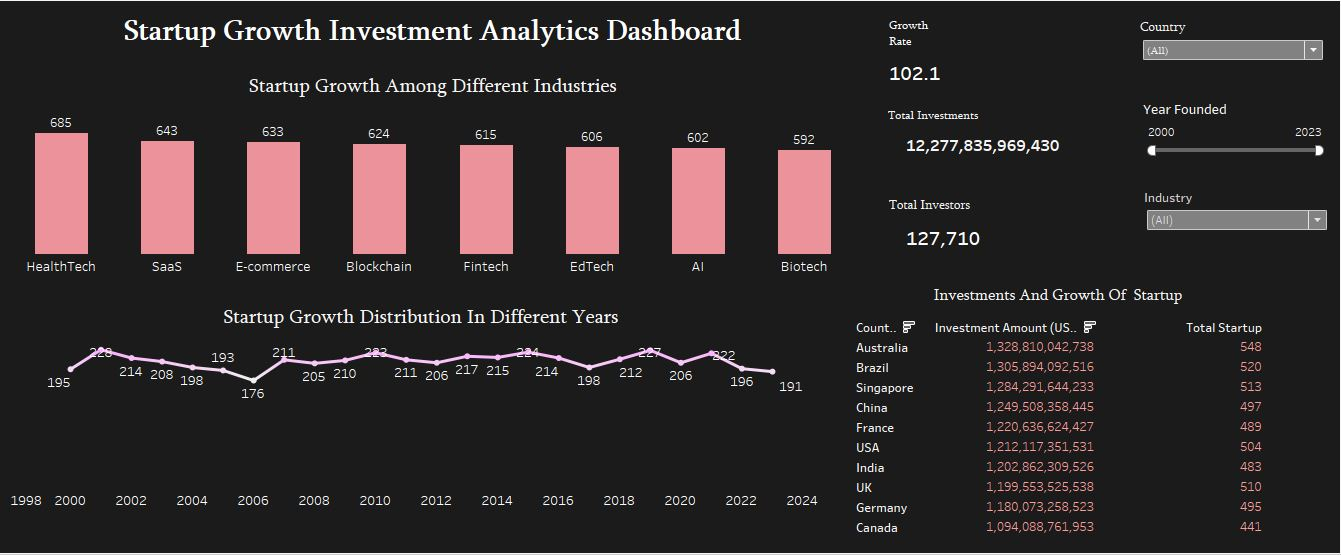

Layout of this report page (visuals, bound fields, positions):
{"tool":"tableau","page":{"name":"Startup Analytics","canvas":[1000,1000],"units":"permille","ordinal":0},"visuals":[{"type":"text","box":[8.7,16.3,627.7,74.3]},{"type":"worksheet","title":"Growth Rate","mark":"Automatic","box":[660.6,21.7,160.2,144.9]},{"type":"filter","title":"Startup-Count","param":"[federated.1gbv70c0r2qat5101hncx04wfn46].[none:Country:nk]","box":[851.1,30.8,138.5,108.7]},{"type":"worksheet","title":"Startup-Indus","mark":"Automatic","rows":["Startup Name"],"cols":["Industry"],"box":[6.1,121.4,634.6,376.8]},{"type":"filter","title":"StartUp Dis","param":"[federated.1gbv70c0r2qat5101hncx04wfn46].[none:Year Founded:qk]","box":[853,179.3,138.1,112.3]},{"type":"worksheet","title":"Investments","mark":"Automatic","box":[659.7,184.8,171.4,139.5]},{"type":"filter","title":"Startup-Indus","param":"[federated.1gbv70c0r2qat5101hncx04wfn46].[none:Industry:nk]","box":[853.7,340.6,138.8,105.1]},{"type":"worksheet","title":"Investors","mark":"Automatic","box":[660.5,346,170.2,143.1]},{"type":"worksheet","title":"Startup-Count","mark":"Automatic","rows":["Country"],"box":[634.3,505.4,360.4,467.4]},{"type":"worksheet","title":"StartUp Dis","mark":"Line","rows":["startup!growth!investment!data_7BC2FEFB78D84BEA810149AA79FB5"],"cols":["Year Founded"],"box":[6.7,539.9,614.9,438.4]}]}

Visuals, with their boxes on the dashboard's canvas, which has no fixed pixel size, in thousandths of its width and height (x1, y1, x2, y2). These are canvas units, not pixel positions in the 1341x555 screenshot, which may show the page scaled, cropped or inside an application window:
text: (left=9, top=16, right=636, bottom=91)
"Growth Rate" worksheet: (left=661, top=22, right=821, bottom=167)
"Startup-Count" filter: (left=851, top=31, right=990, bottom=140)
"Startup-Indus" worksheet: (left=6, top=121, right=641, bottom=498)
"StartUp Dis" filter: (left=853, top=179, right=991, bottom=292)
"Investments" worksheet: (left=660, top=185, right=831, bottom=324)
"Startup-Indus" filter: (left=854, top=341, right=992, bottom=446)
"Investors" worksheet: (left=660, top=346, right=831, bottom=489)
"Startup-Count" worksheet: (left=634, top=505, right=995, bottom=973)
"StartUp Dis" worksheet (Line marks): (left=7, top=540, right=622, bottom=978)
